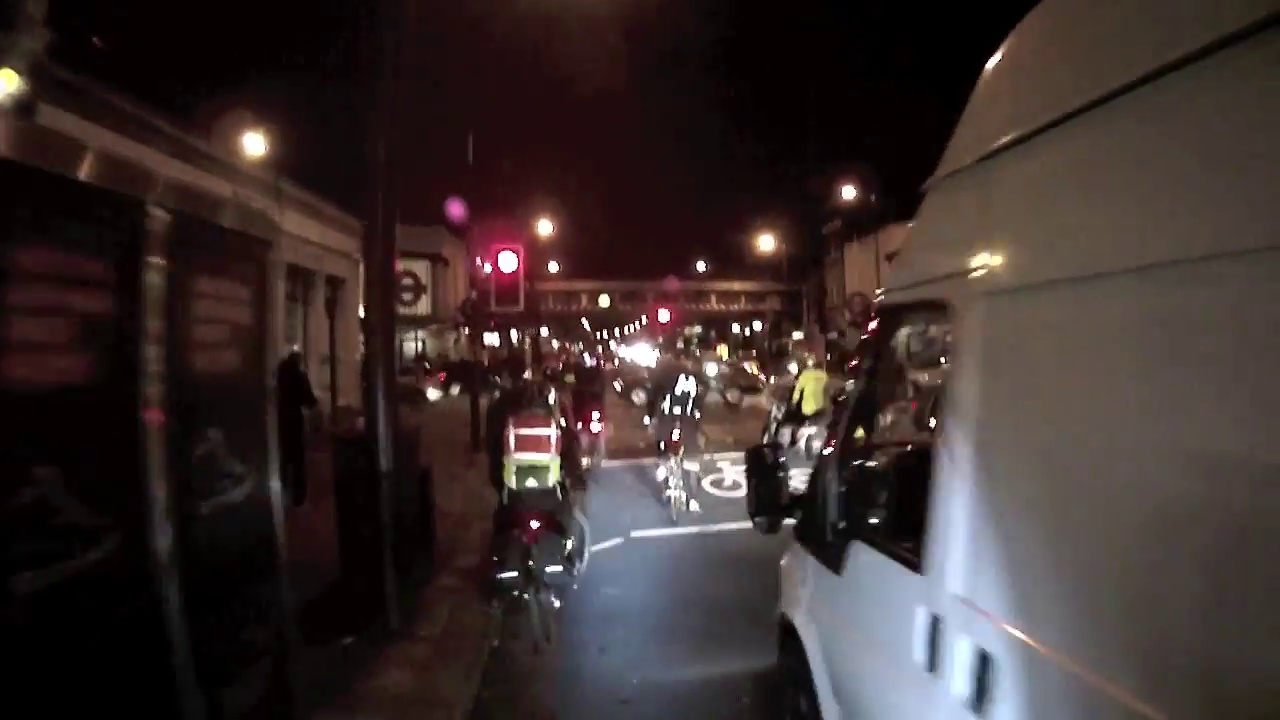cyclist_back: (484, 364, 598, 647), (647, 345, 712, 529)
